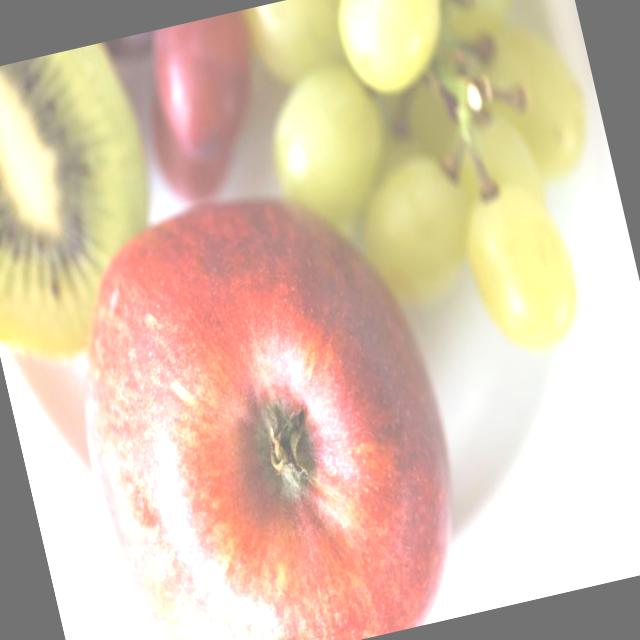Apple: (37, 158, 487, 640)
